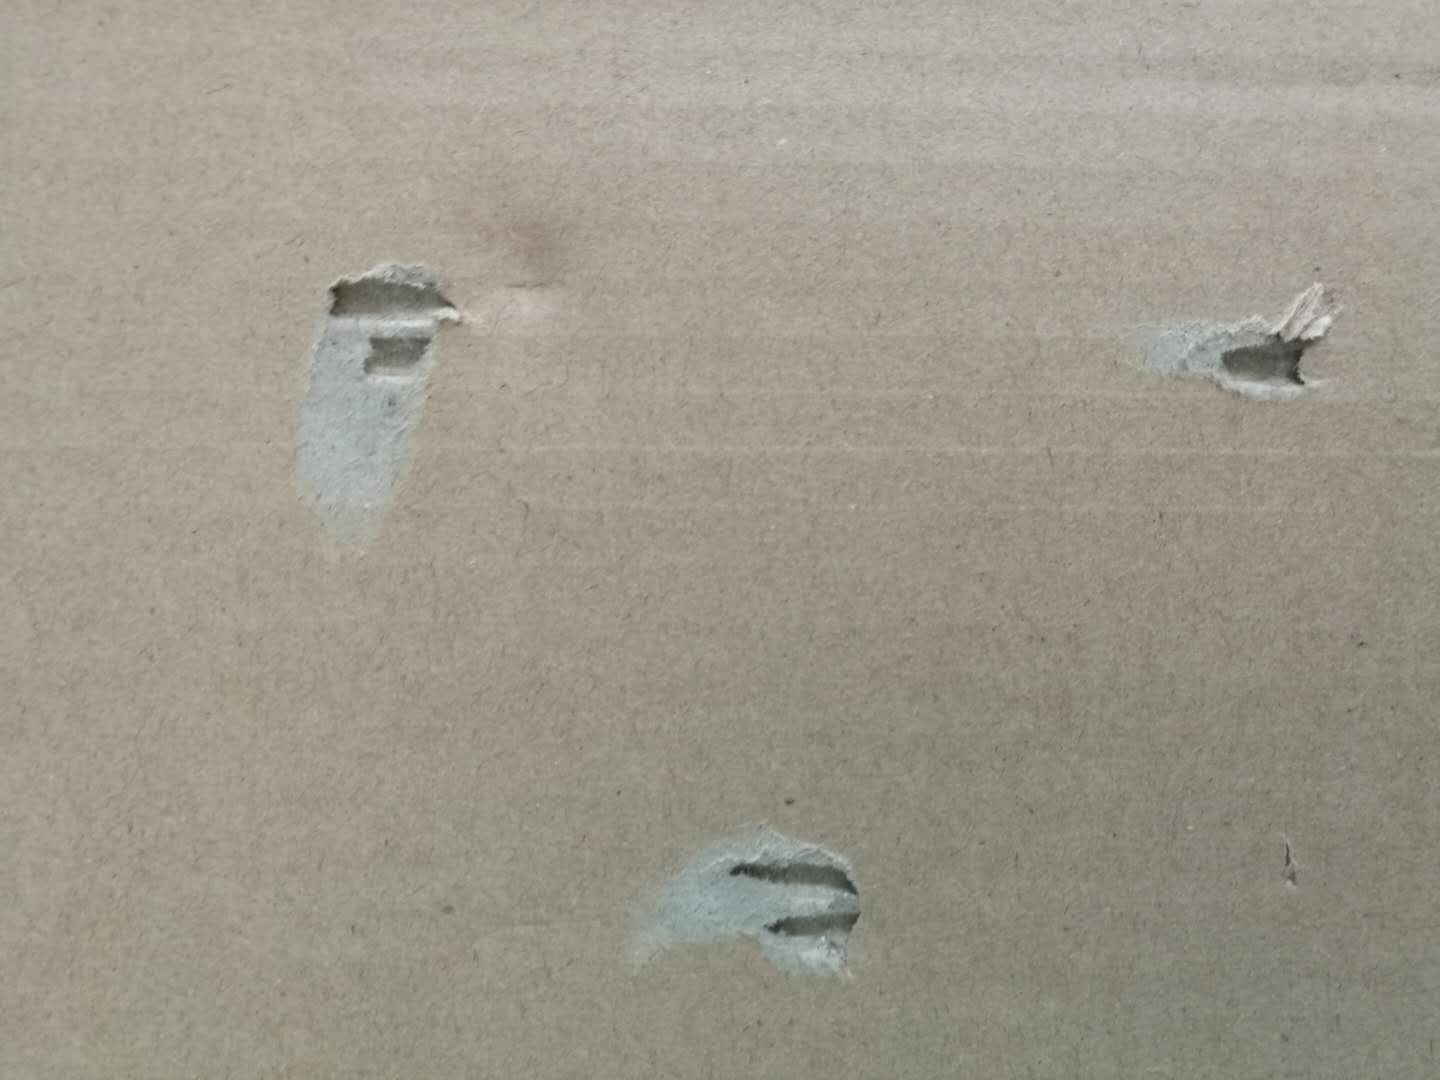defect: (266, 180, 598, 572), (604, 810, 905, 999), (1074, 265, 1383, 428)
